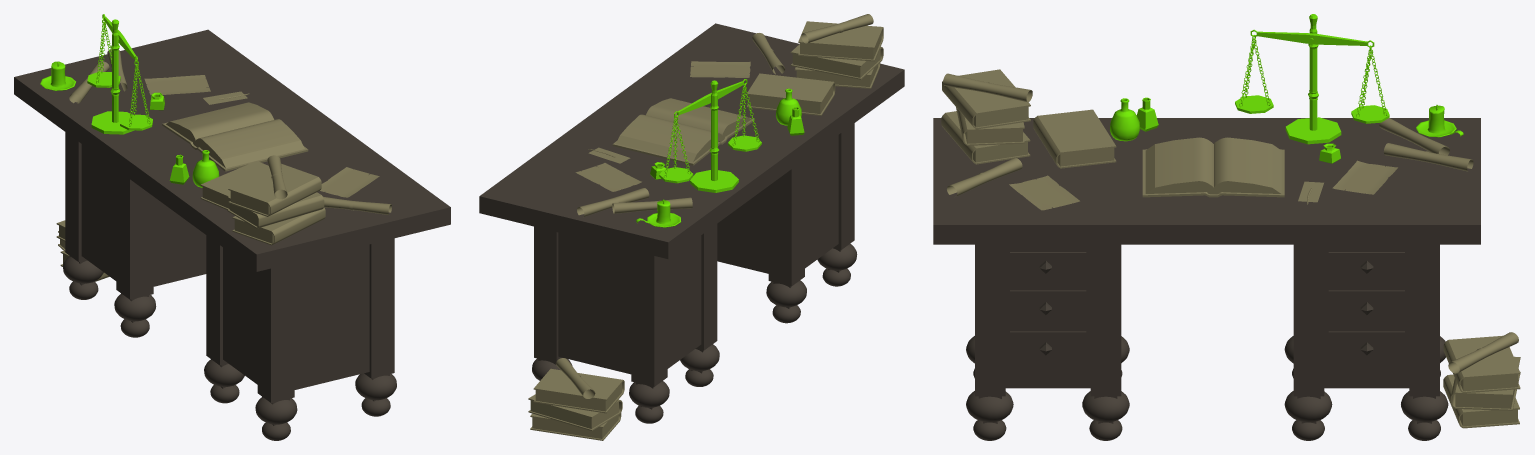
Rendered from admin_table.fbx.
3 renders of one model, left to right at view 1: azimuth 30°, elevation 25°; view 2: azimuth 150°, elevation 25°; view 3: azimuth 270°, elevation 25°, orthographic. The views are drawn at different scales.
Visible parts, largest first — view 1: pSphere19; view 2: pSphere19; view 3: pSphere19.
Boxes of the visible parts, x1,y1,x2,y2 form: pSphere19: (14, 14, 450, 440); pSphere19: (479, 14, 904, 440); pSphere19: (933, 14, 1520, 440).
Size of the model in its own units: 107 by 167 by 248.
